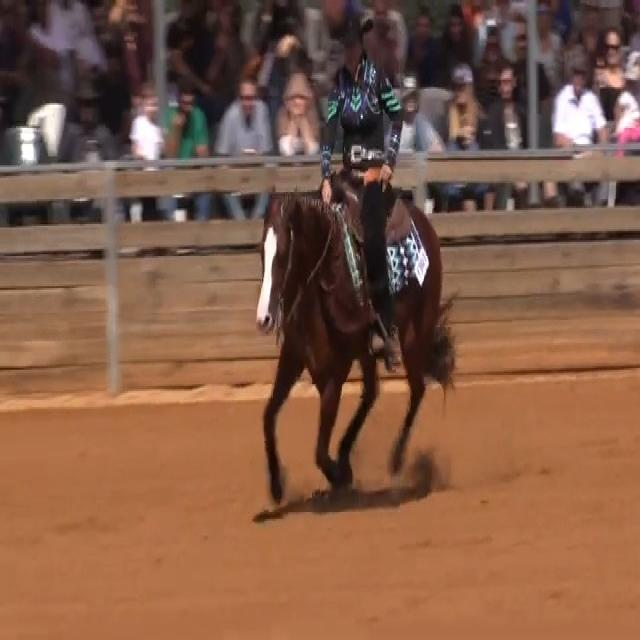horse: (251, 176, 458, 503)
